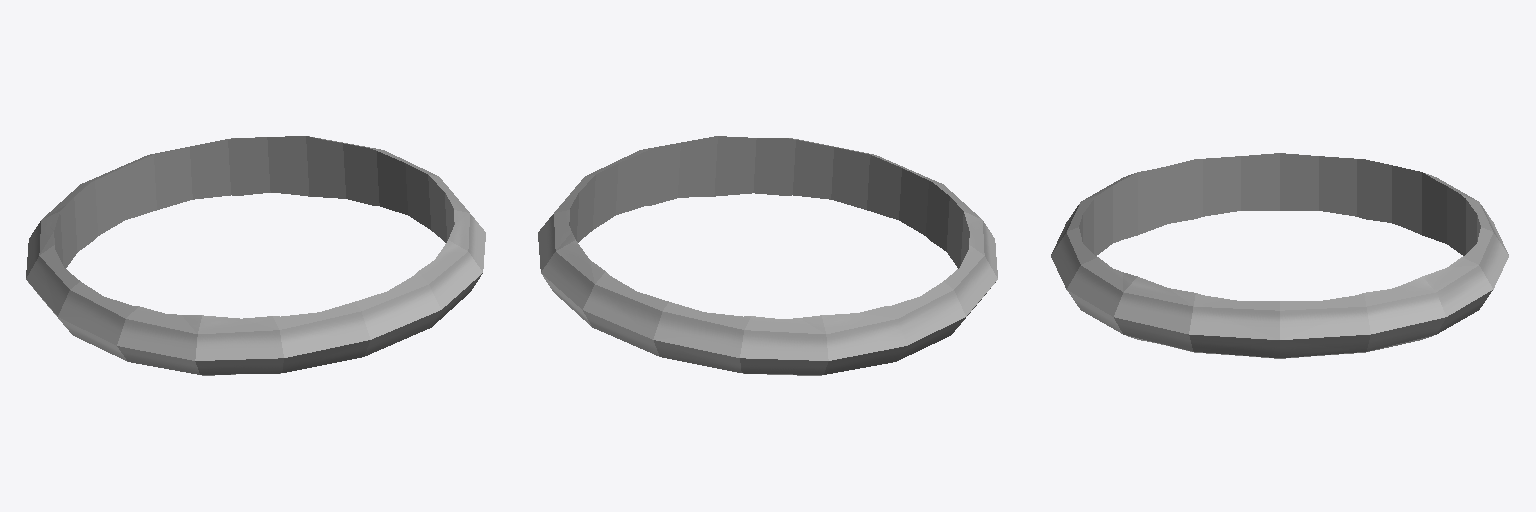
3 views of the same model, side by side, from view 1: azimuth 30°, elevation 25°; view 2: azimuth 150°, elevation 25°; view 3: azimuth 270°, elevation 25° (orthographic).
Visible parts, largest first — view 1: 立方体.007; view 2: 立方体.007; view 3: 立方体.007.
Part boxes in pixels (x1,y1,x2,y2): 立方体.007: (26, 136, 485, 375); 立方体.007: (538, 136, 997, 375); 立方体.007: (1051, 153, 1508, 358).
Size of the model in its own units: 2.87 by 0.5417 by 2.87.
Materials: 1 (1 with a texture image).